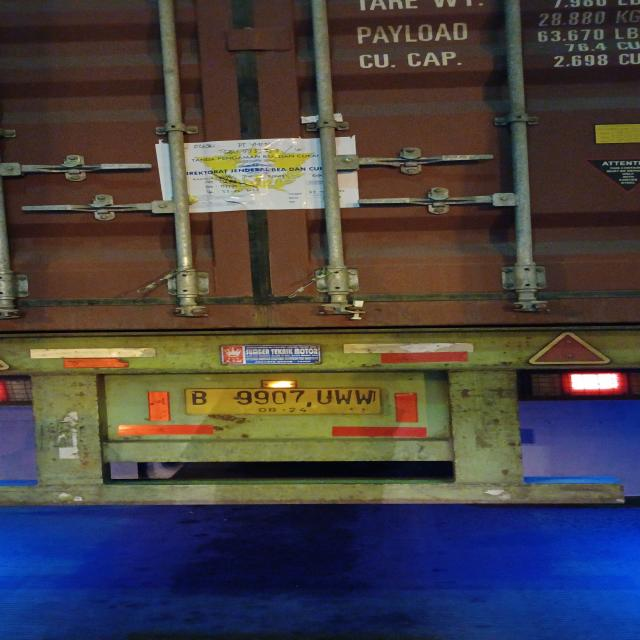seal: (347, 300, 366, 322)
